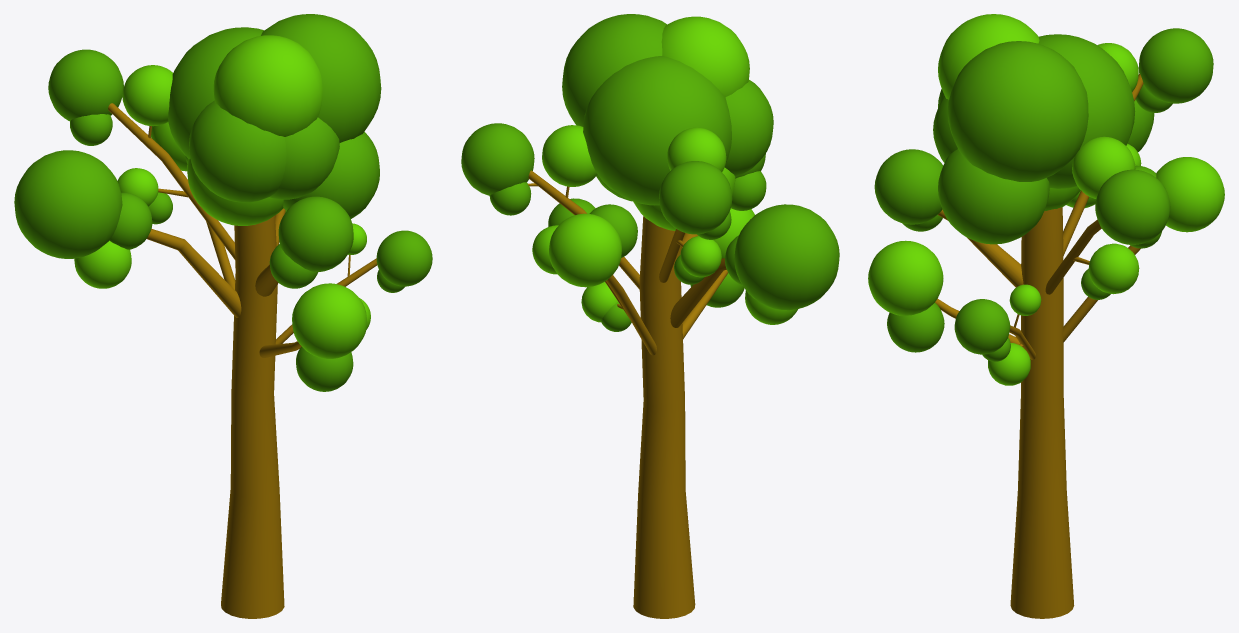
Rendered from Arbre.fbx.
3 views of the same model, side by side, from view 1: azimuth 30°, elevation 25°; view 2: azimuth 150°, elevation 25°; view 3: azimuth 270°, elevation 25° (orthographic). The views are drawn at different scales.
Visible parts, largest first — view 1: pCylinder4; view 2: pCylinder4; view 3: pCylinder4.
Part boxes in pixels (x1,y1,x2,y2): pCylinder4: (14, 14, 432, 618); pCylinder4: (461, 14, 839, 618); pCylinder4: (868, 14, 1224, 618).
Size of the model in its own units: 26.54 by 41.12 by 22.83.
